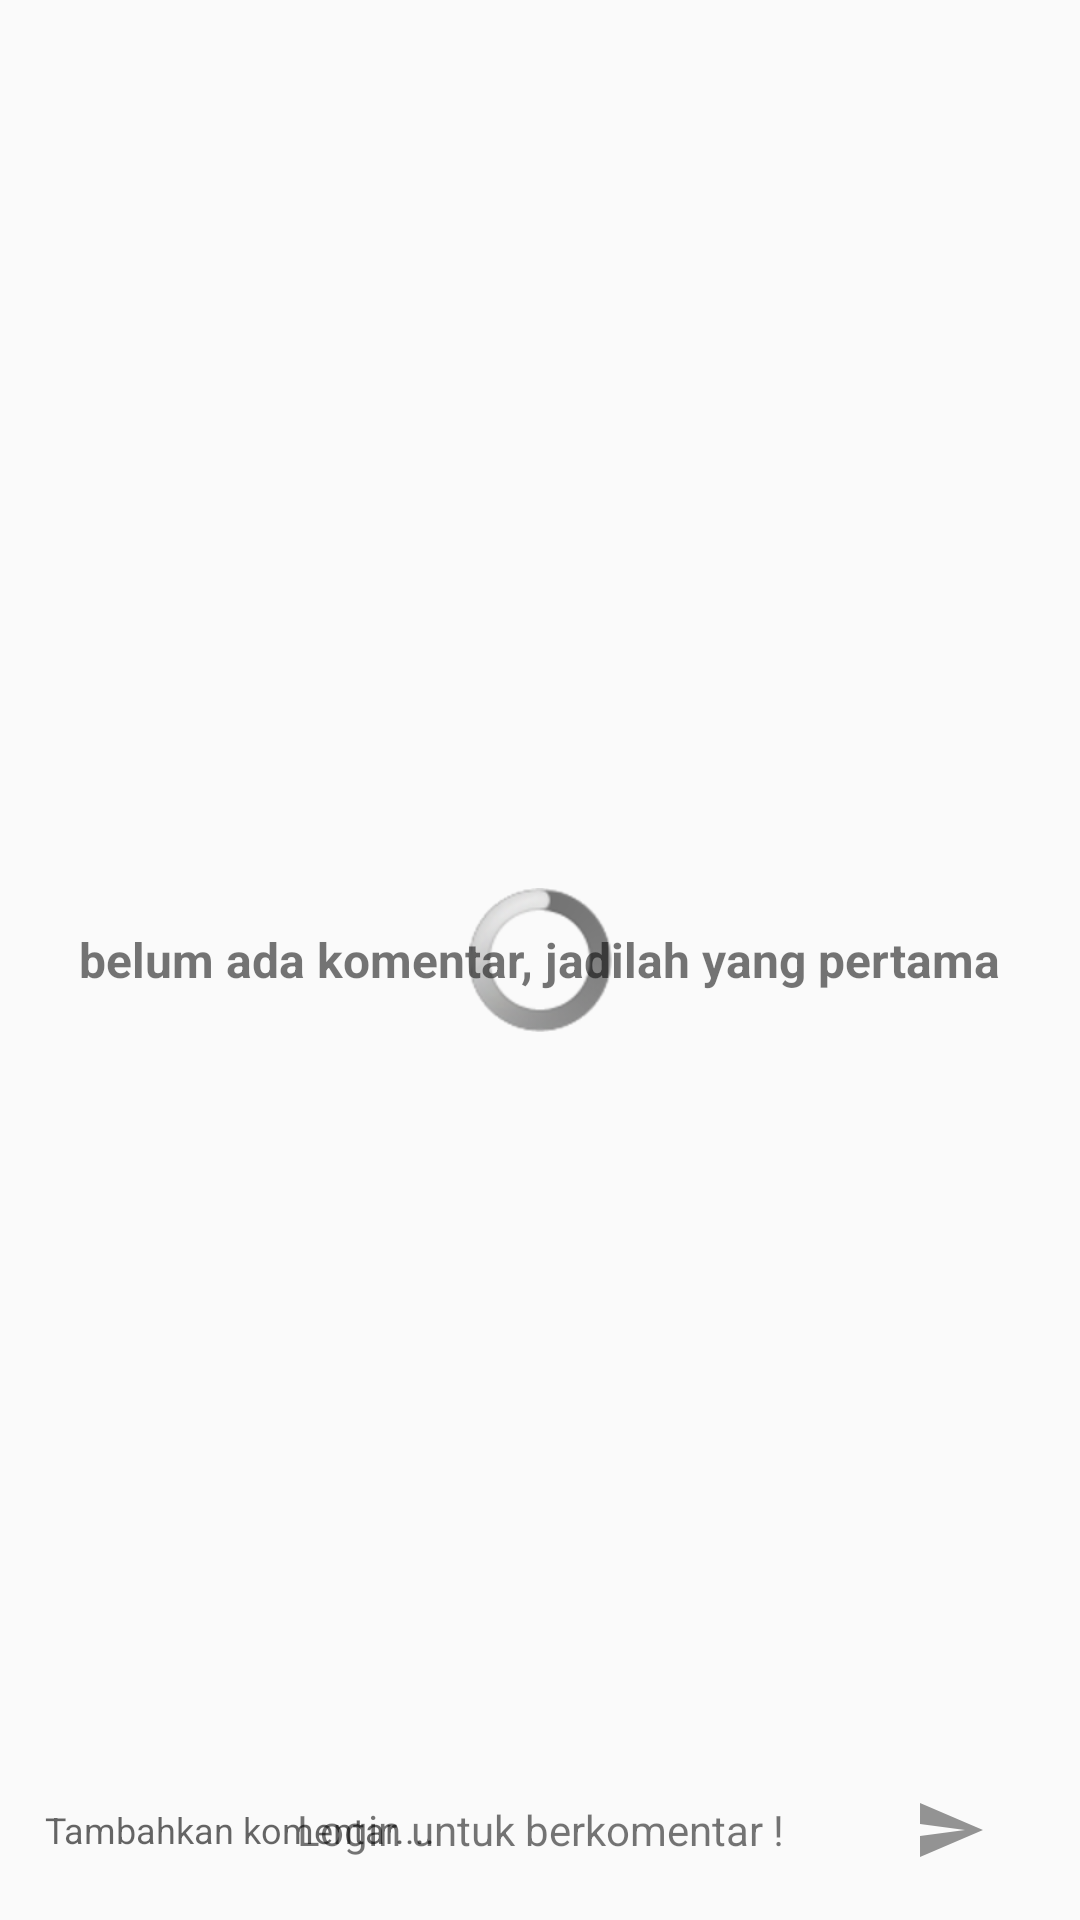

Screen size 1080x1920. Icon name, then its center in pixels as (x,y):
send: (951,1830)
